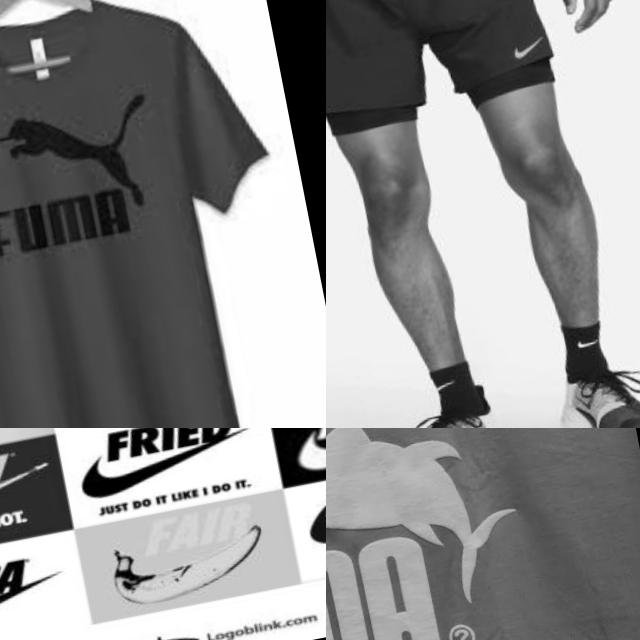NIKE_fake: (88, 493, 296, 615), (69, 428, 265, 520), (0, 534, 81, 640), (0, 441, 59, 553)
NIKE_original: (500, 25, 554, 69)
PUMA_fake: (326, 428, 558, 640), (0, 83, 182, 283)
